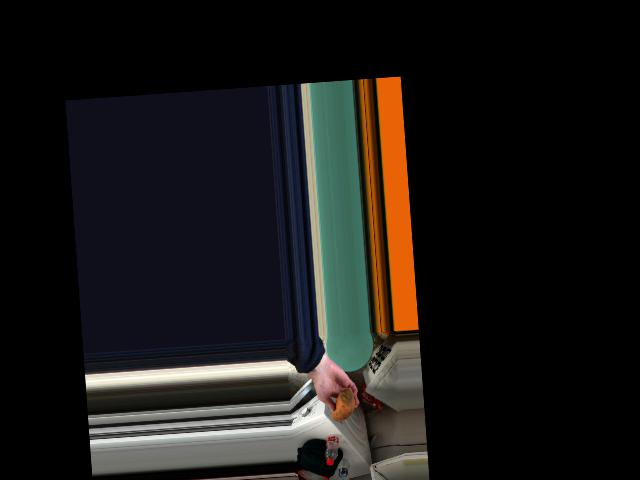sweet_potato: (331, 391, 356, 421)
